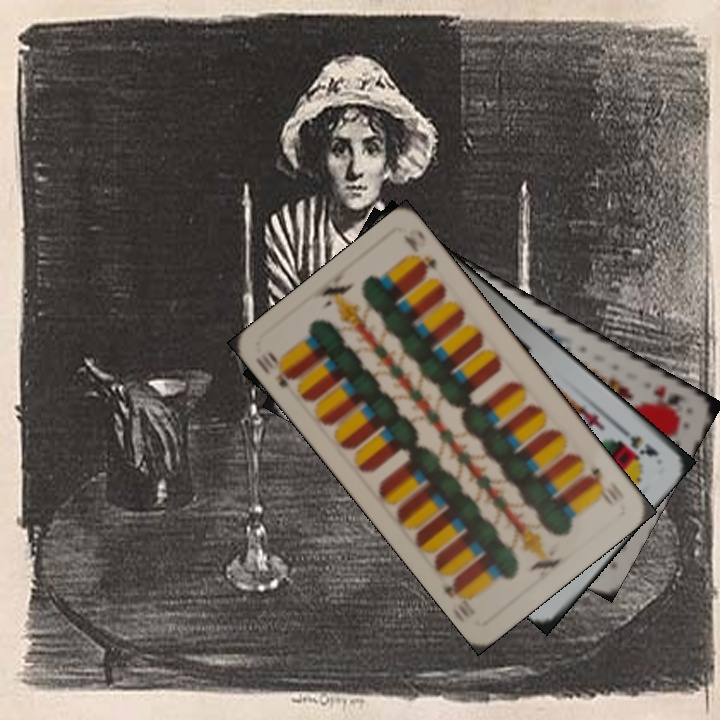E10: (263, 347, 300, 391), (583, 463, 621, 503)
HK: (648, 381, 688, 409)
SK: (612, 420, 662, 459)
